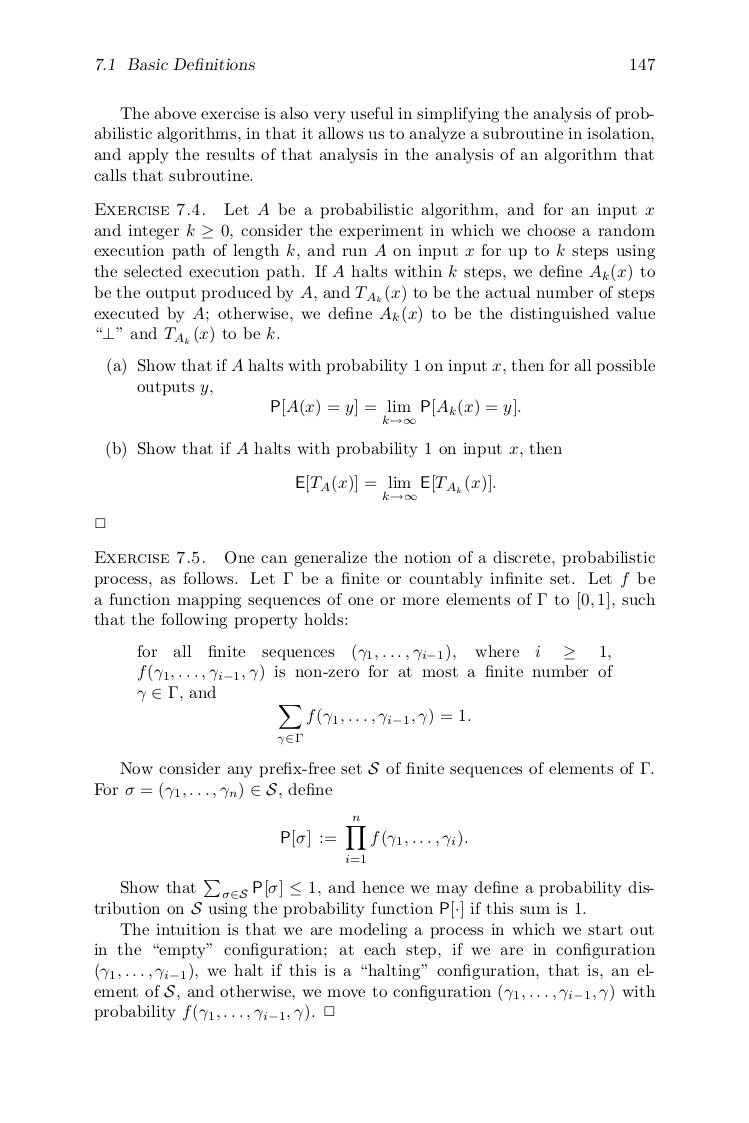formula: (281, 816, 467, 862), (277, 705, 470, 744), (271, 398, 520, 425), (296, 474, 495, 501)
